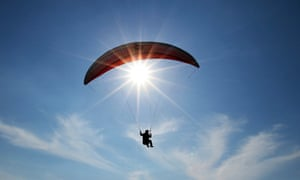Paraglider: (81, 38, 204, 85)
